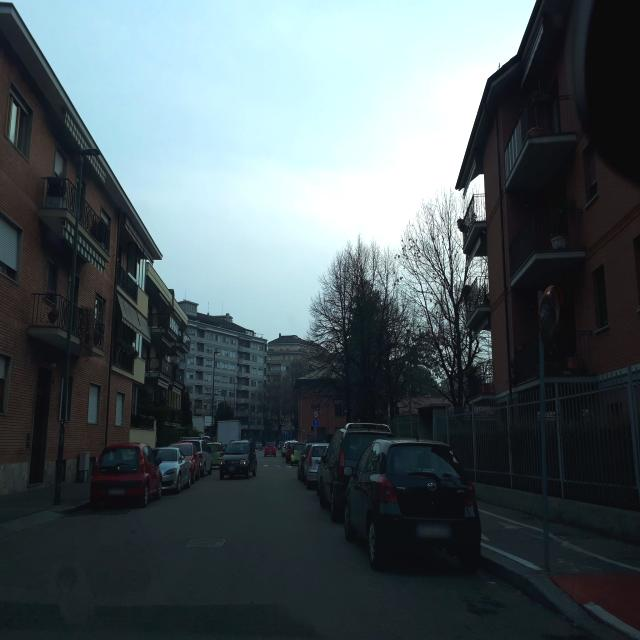car: (344, 437, 482, 573), (318, 422, 394, 521), (89, 442, 163, 508), (151, 446, 192, 494), (220, 439, 258, 480), (169, 441, 201, 483), (180, 436, 212, 476), (304, 442, 328, 489), (297, 442, 312, 482), (207, 441, 224, 470), (290, 441, 306, 465), (284, 440, 297, 460), (264, 442, 276, 458), (281, 443, 288, 457), (255, 440, 262, 450)
